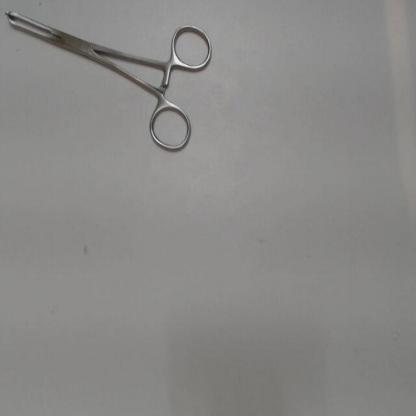Allis Tissue Forceps: (0, 6, 218, 161)
